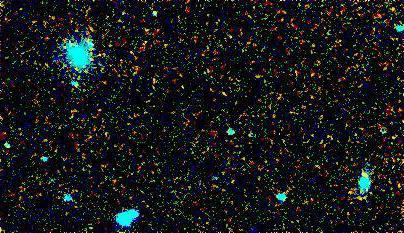star: (139, 67, 169, 97)
